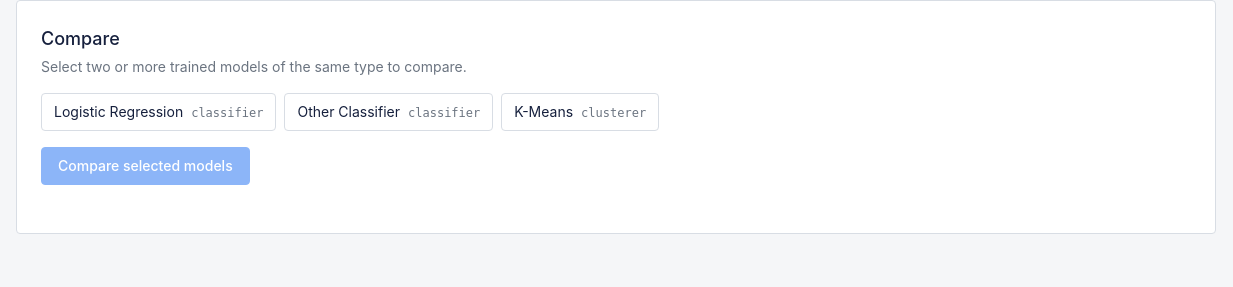
it: CompareScreen › explains a mixed-type selection instead of sending a request
Click the button "Logistic Regression". click: {"x": 159, "y": 112}
box: [41, 93, 276, 131]
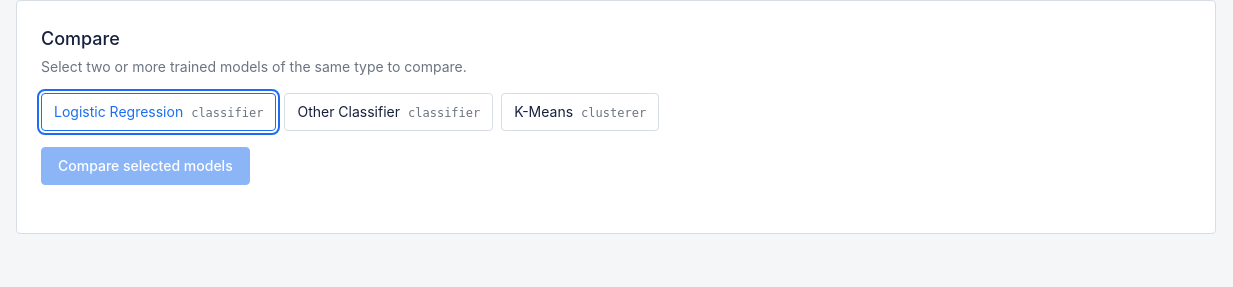
Click the button "K-Means". click: {"x": 580, "y": 112}
box: [501, 93, 659, 131]
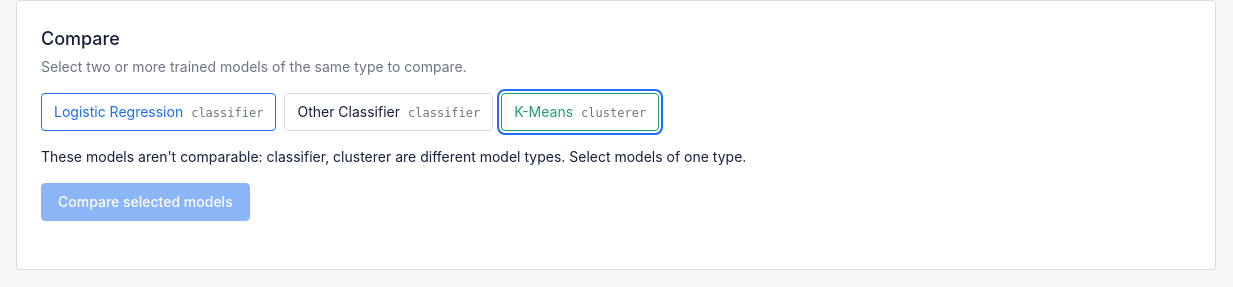
expect the button "Compare selected models" is disabled: met, box [41, 183, 250, 221]
expect the text "These models aren't comparable: classifier, clusterer are different model types." is shown: met, box [41, 148, 746, 165]
